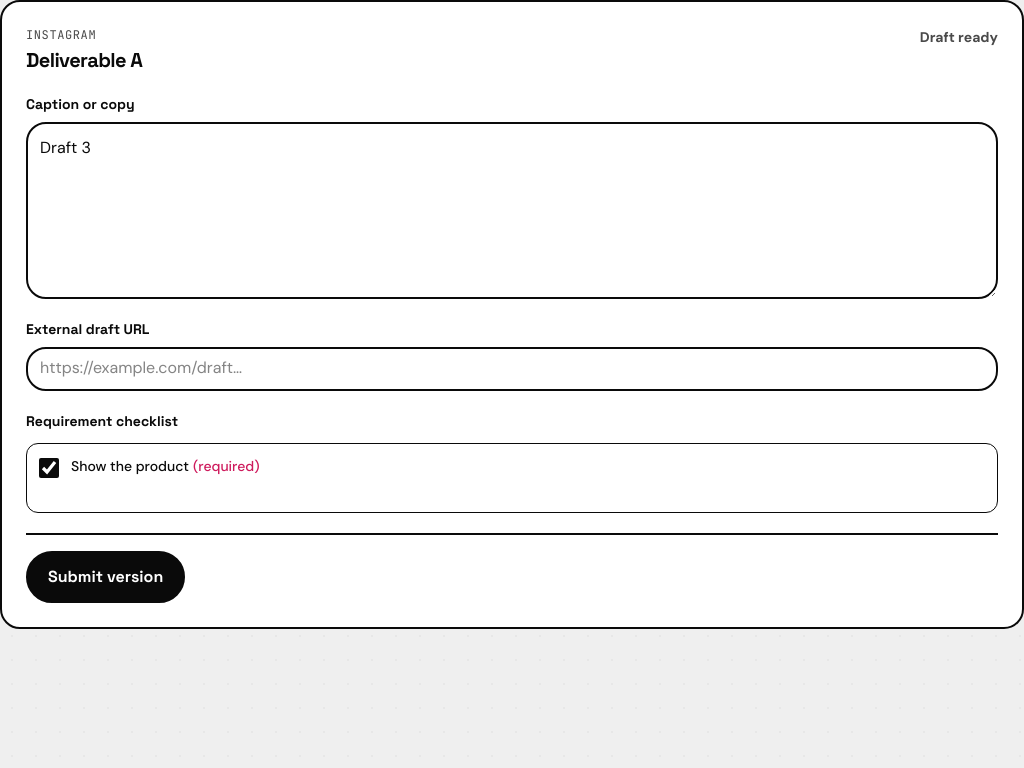
it: DraftEditor race safety › stops submit when the active autosave fails
Replace the text in the text box labelled "Caption or copy" with "Final copy" at (512, 210), box [26,122,998,299]
Wait 800 ms
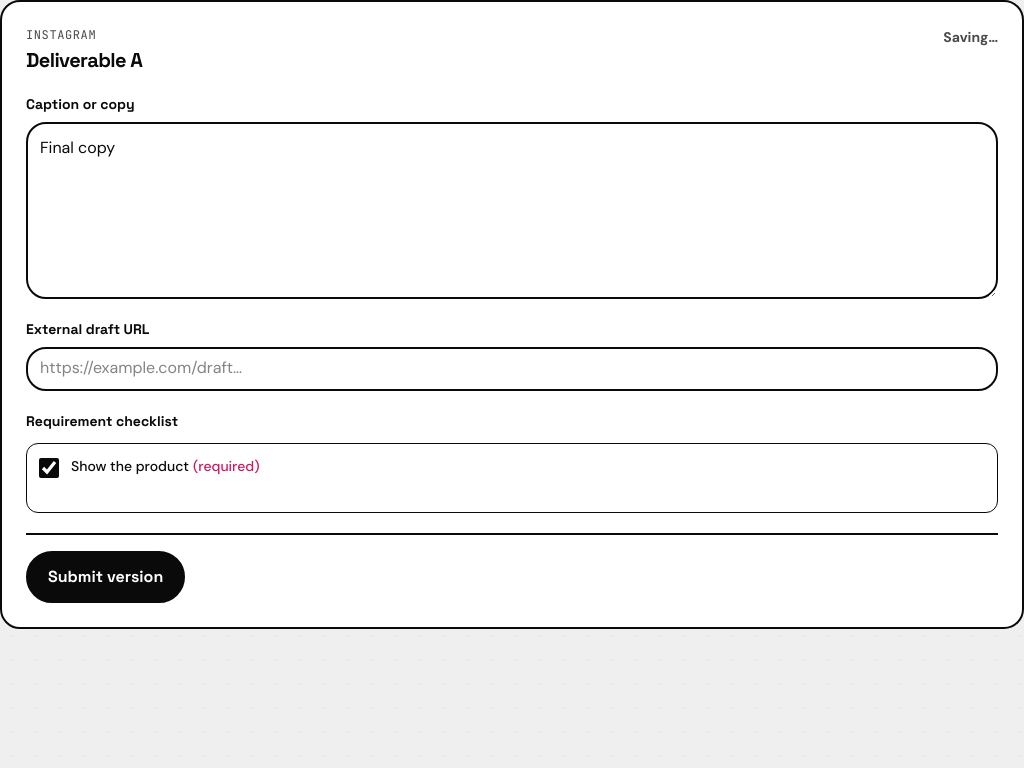
Click the button "Submit version" at (106, 577), box [26,551,185,603]
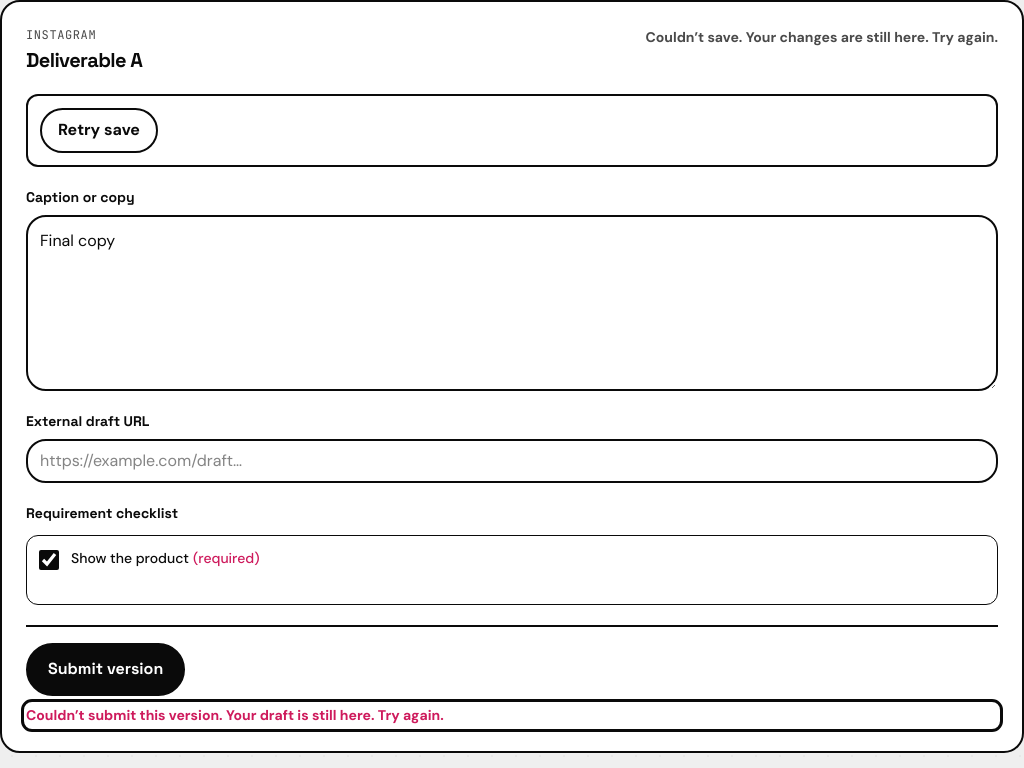
Expected: the message "Couldn’t submit this version. Your draft is still here. Try again." is shown, [26,706,444,724]
